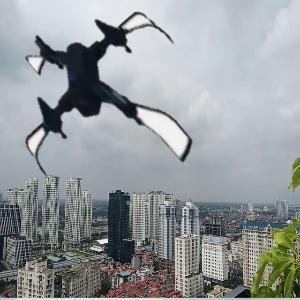drone: (7, 3, 206, 202)
